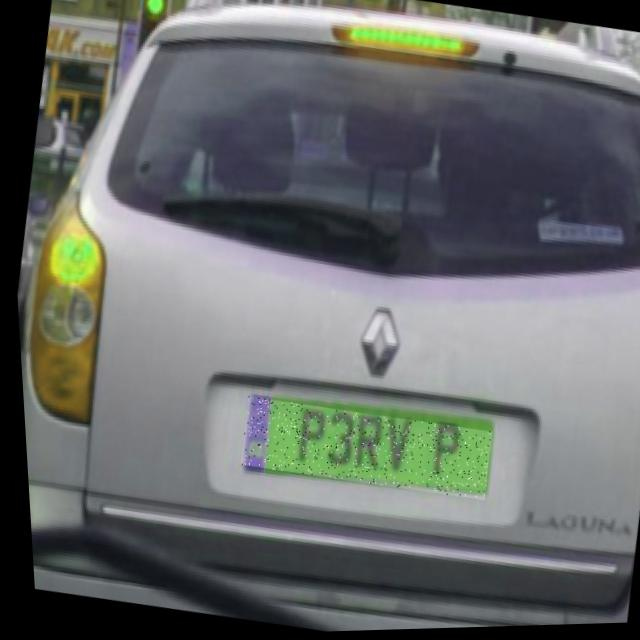license_plate: (231, 392, 489, 508)
